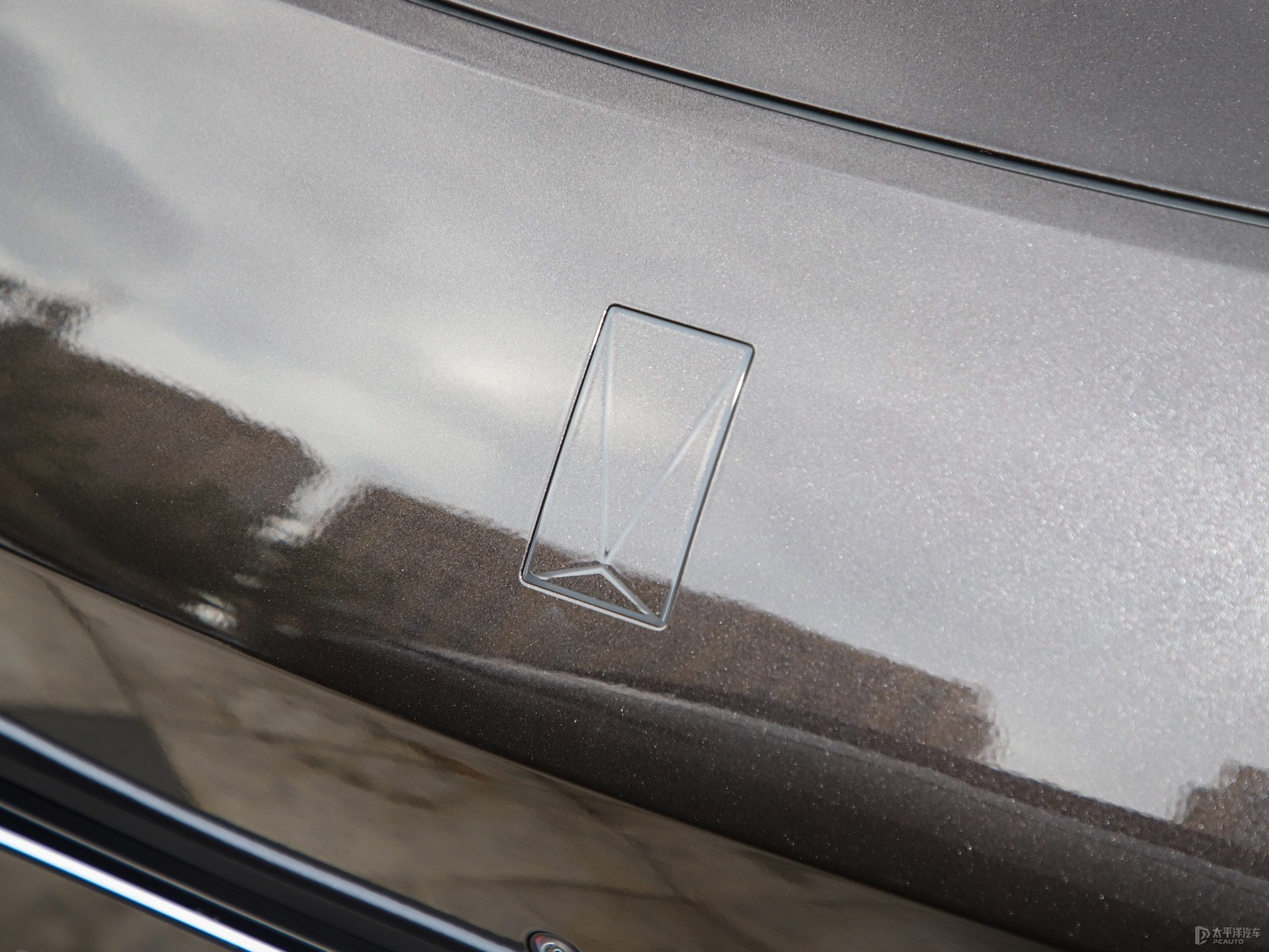AVATR: (521, 305, 753, 628)
